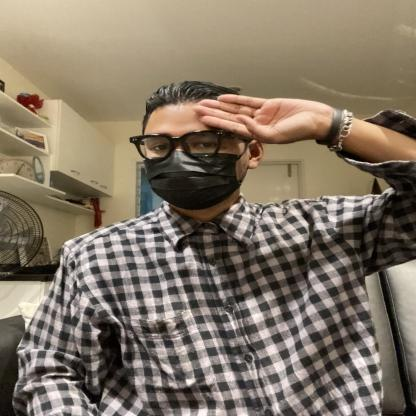Sick: (74, 75, 323, 190)
